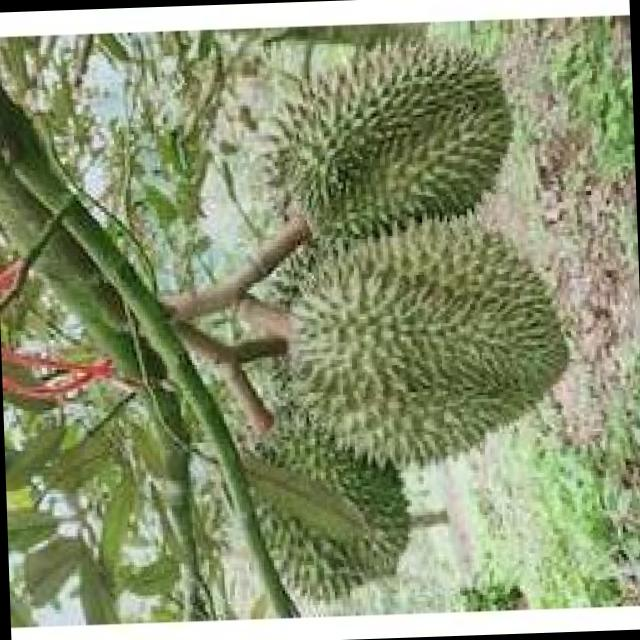fruit: (254, 194, 594, 501), (235, 26, 525, 268)
